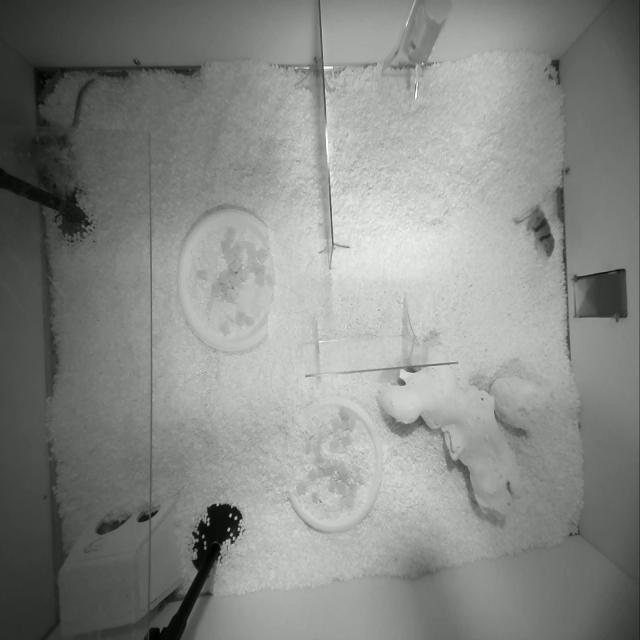adult_back: (32, 78, 94, 198)
pup_h_stripe: (514, 206, 554, 257)
